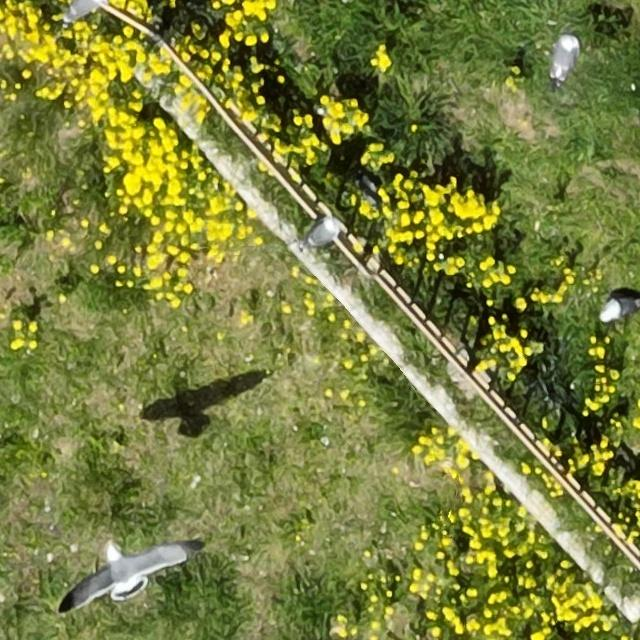F: (63, 536, 199, 610)
umineko: (552, 35, 576, 77), (305, 218, 339, 244), (603, 298, 637, 319), (67, 1, 103, 19)
